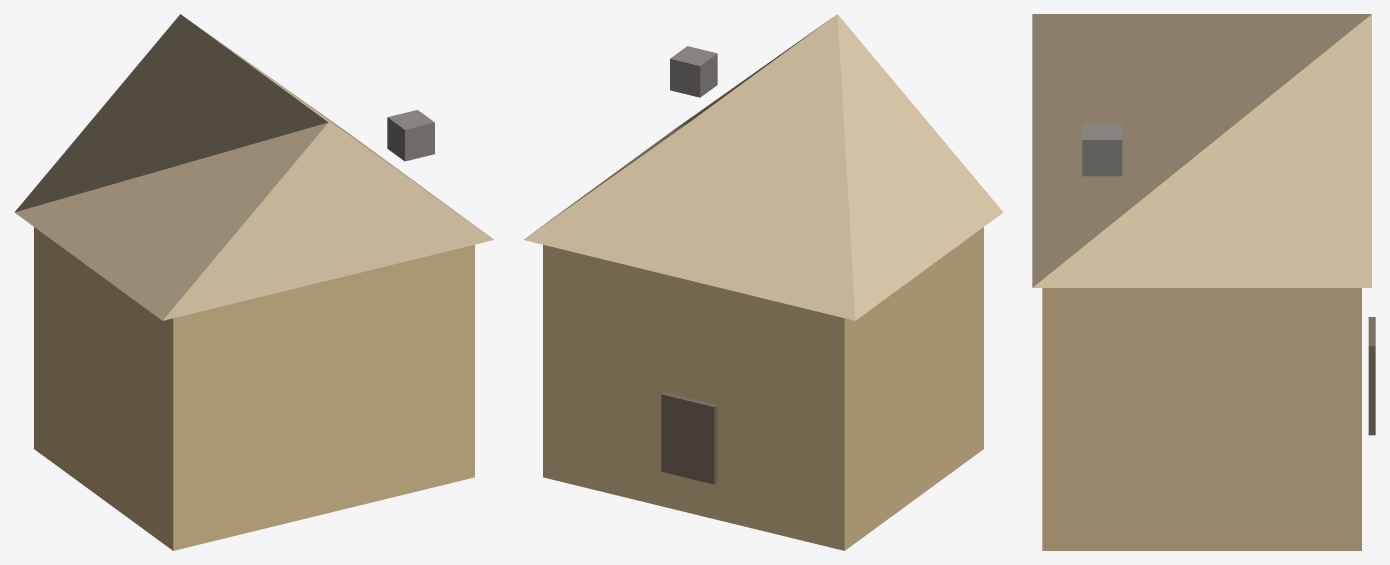
The model's file is lqv_lowpoly_house_cob.glb.
3 renders of one model, left to right at view 1: azimuth 30°, elevation 25°; view 2: azimuth 150°, elevation 25°; view 3: azimuth 270°, elevation 25°, orthographic. The views are drawn at different scales.
Visible parts, largest first — view 1: Typo_Cob, Typo_Cob_roof, Typo_Cob_chimney; view 2: Typo_Cob, Typo_Cob_roof, Typo_Cob_door, Typo_Cob_chimney; view 3: Typo_Cob_roof, Typo_Cob, Typo_Cob_chimney, Typo_Cob_door.
Part boxes in pixels (<box>): Typo_Cob: <box>34,227,474,550</box>; Typo_Cob_roof: <box>14,14,494,320</box>; Typo_Cob_chimney: <box>387,110,434,161</box>; Typo_Cob: <box>543,227,983,550</box>; Typo_Cob_roof: <box>523,14,1003,320</box>; Typo_Cob_door: <box>661,392,717,484</box>; Typo_Cob_chimney: <box>670,46,717,97</box>; Typo_Cob_roof: <box>1032,14,1371,287</box>; Typo_Cob: <box>1042,288,1361,550</box>; Typo_Cob_chimney: <box>1082,123,1122,176</box>; Typo_Cob_door: <box>1368,317,1375,435</box>.
Bounding box in the file's own units: 4.4 × 5 × 3.44.
